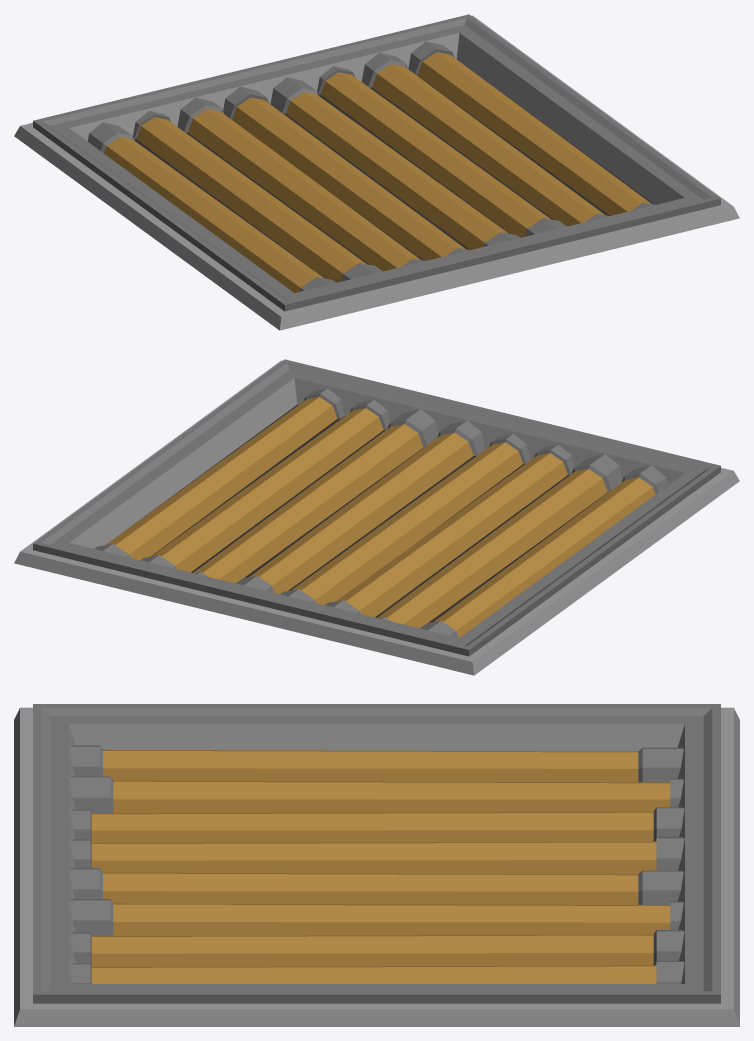
Rendered from RoofTile_Pipes1.glb.
The picture shows the model from 3 angles, top to bottom: view 1: azimuth 30°, elevation 25°; view 2: azimuth 150°, elevation 25°; view 3: azimuth 270°, elevation 25°; orthographic projection. The views are drawn at different scales.
Visible parts, largest first — view 1: RoofTile_Pipes1; view 2: RoofTile_Pipes1; view 3: RoofTile_Pipes1.
Part boxes in pixels (x1,y1,x2,y2): RoofTile_Pipes1: [14, 14, 739, 330]; RoofTile_Pipes1: [14, 359, 739, 675]; RoofTile_Pipes1: [14, 704, 739, 1026].
Size of the model in its own units: 0.68 by 0.0385 by 0.68.
